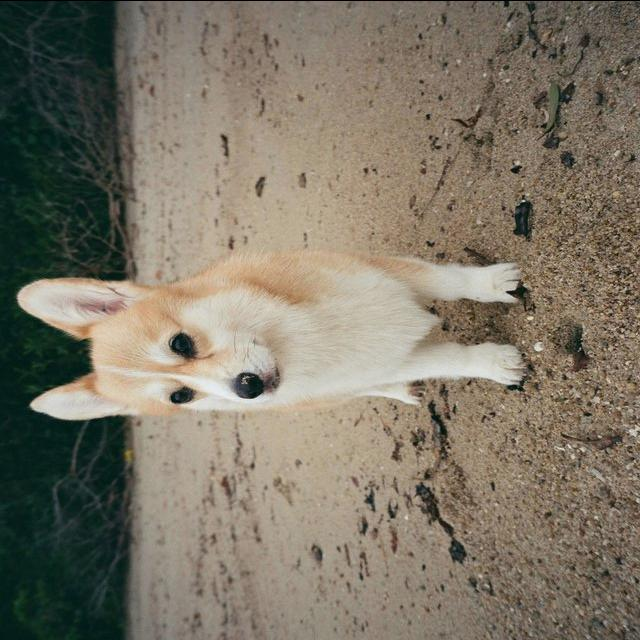corgi: (15, 247, 528, 422)
